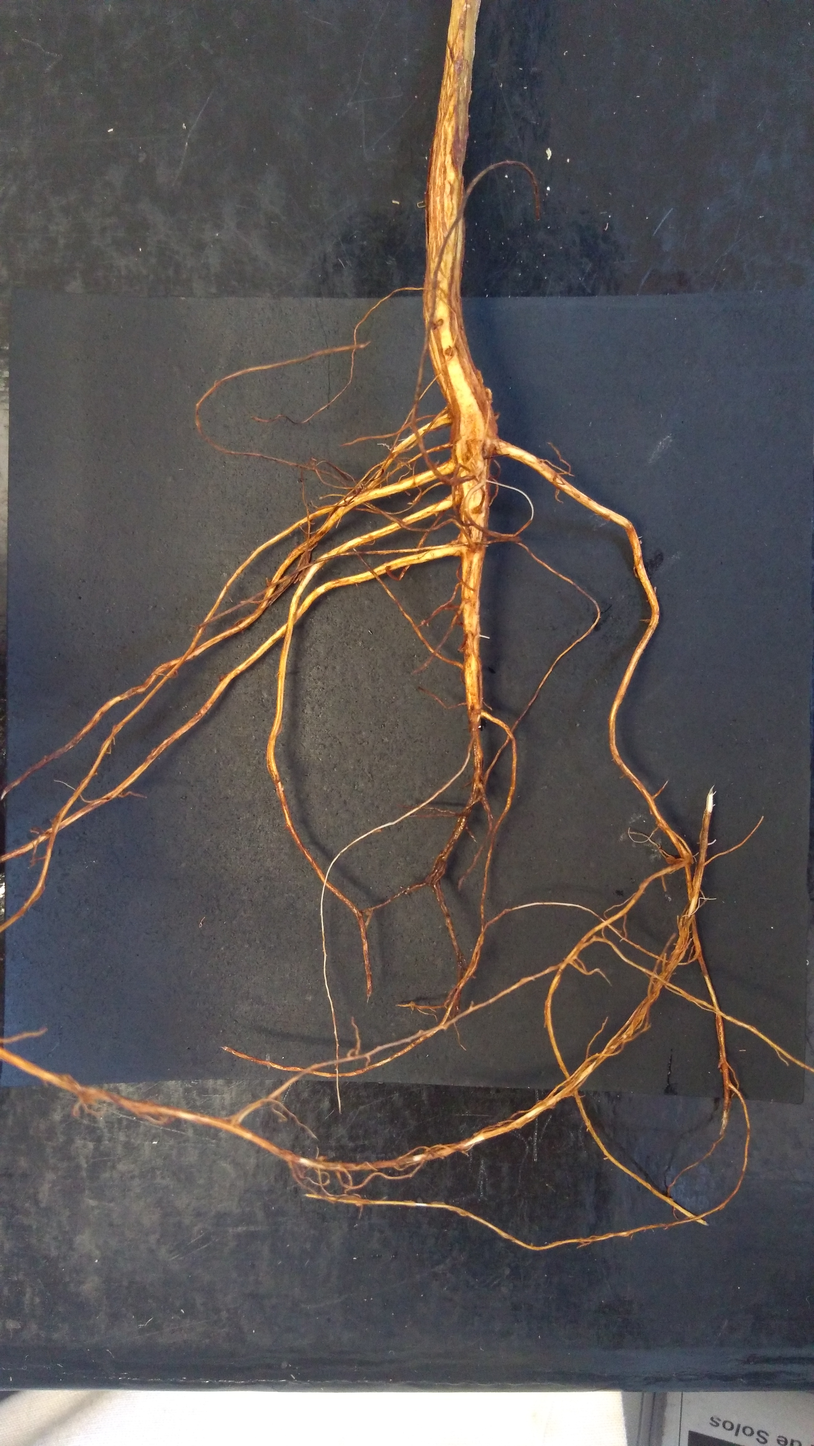nodule: (464, 438, 485, 477), (449, 540, 461, 557), (484, 386, 493, 404), (473, 369, 483, 384), (545, 147, 552, 160), (317, 1155, 326, 1163), (639, 539, 642, 545)
